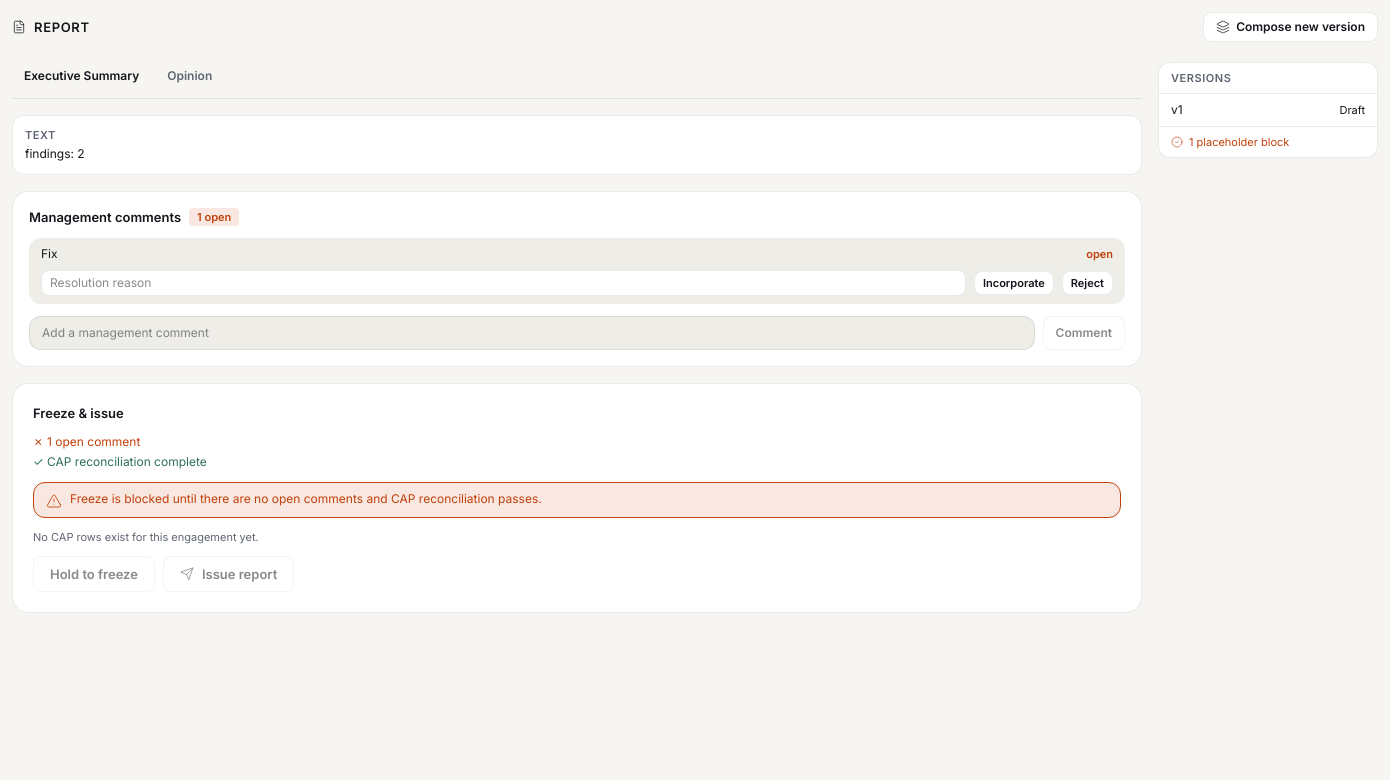
Test case: Phase 6 UI panels (6H) › ReportEditorPanel › requires a resolution reason before incorporating a comment
The image size is (1390, 780).
Click the button with test id "report-incorporate-c1" at {"x": 1014, "y": 283}, box [974,271,1054,295]
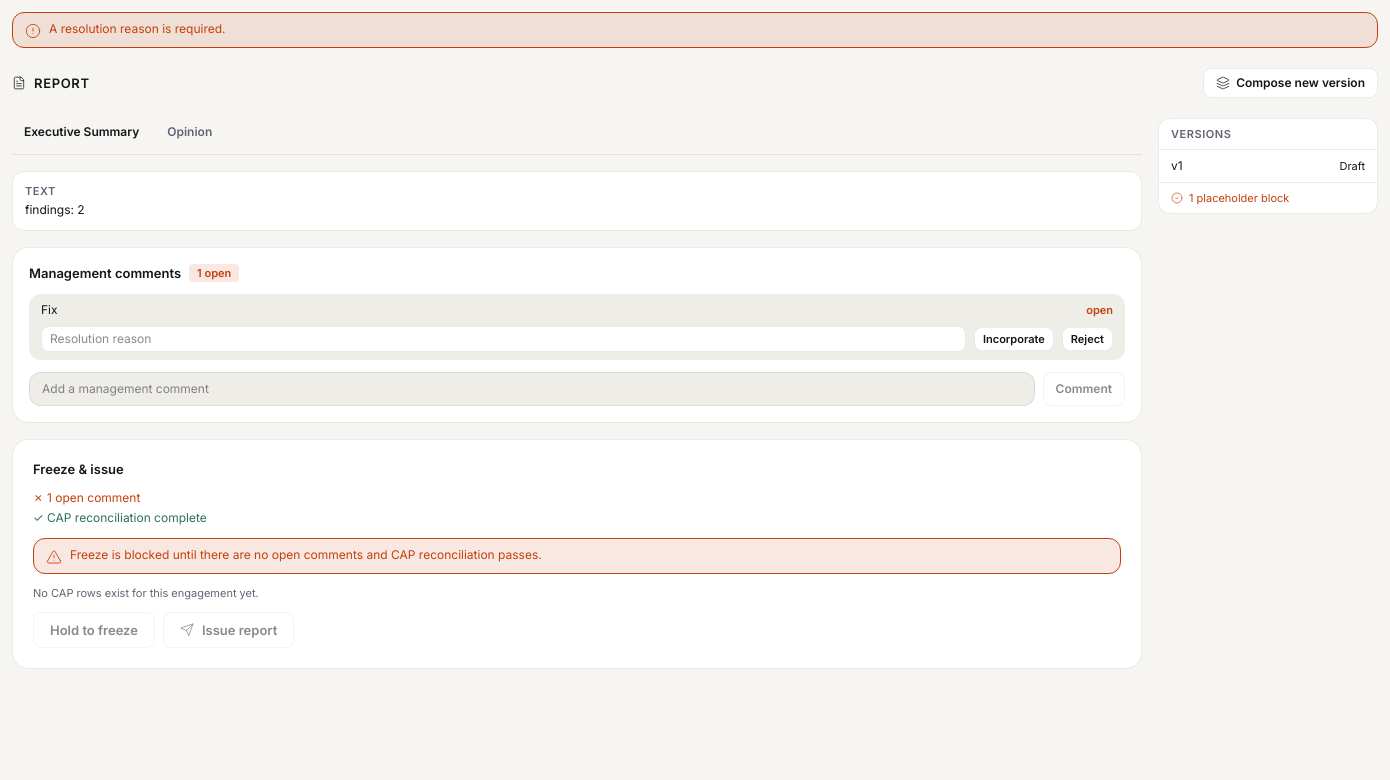
Now the message with test id "report-error" shows "resolution reason", box [49,21,226,36]
